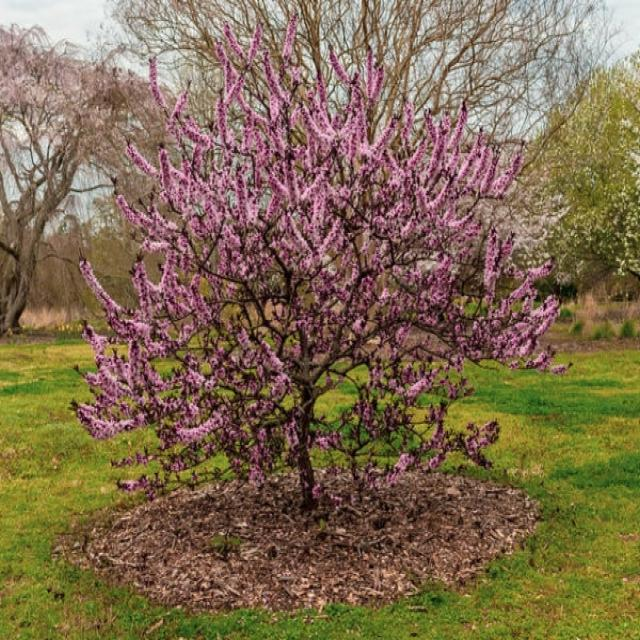peach: (84, 26, 575, 495)
